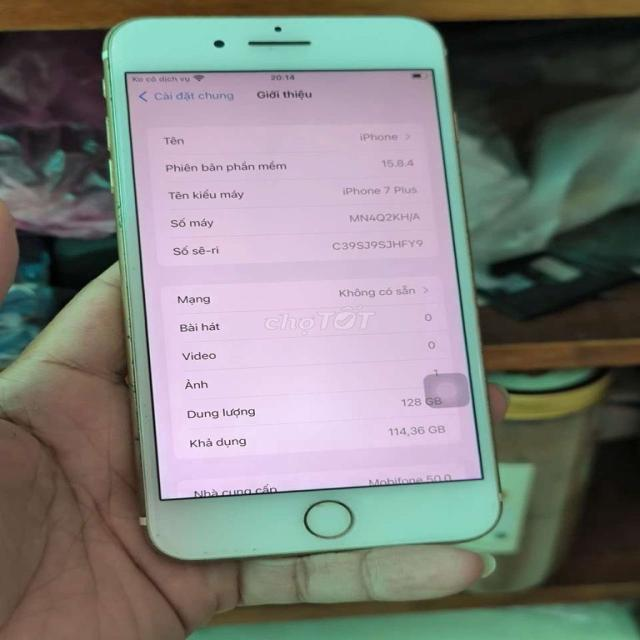gen_7_8: (95, 9, 513, 565)
scratch: (113, 249, 146, 476), (106, 196, 130, 230), (193, 543, 265, 554), (299, 498, 338, 509), (156, 529, 166, 540)
